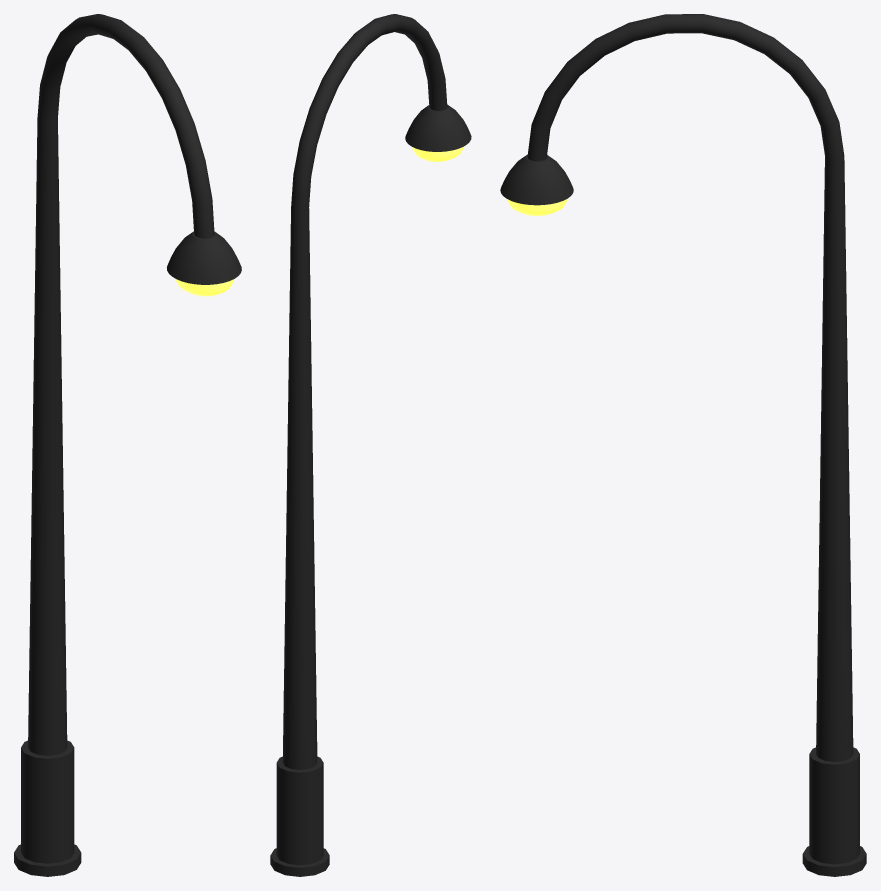
Rendered from FarolaModernaRodonaDe1.005.fbx.
The picture shows the model from 3 angles, left to right: view 1: azimuth 30°, elevation 25°; view 2: azimuth 150°, elevation 25°; view 3: azimuth 270°, elevation 25°; orthographic projection. The views are drawn at different scales.
Parts seen in each view (by area): view 1: FarolaModernaRodonaDe1.005; view 2: FarolaModernaRodonaDe1.005; view 3: FarolaModernaRodonaDe1.005.
Boxes of the visible parts, x1,y1,x2,y2 form: FarolaModernaRodonaDe1.005: (14, 14, 241, 876); FarolaModernaRodonaDe1.005: (270, 14, 471, 876); FarolaModernaRodonaDe1.005: (500, 14, 866, 876).
Bounding box in the file's own units: 28.81 × 381 × 149.
